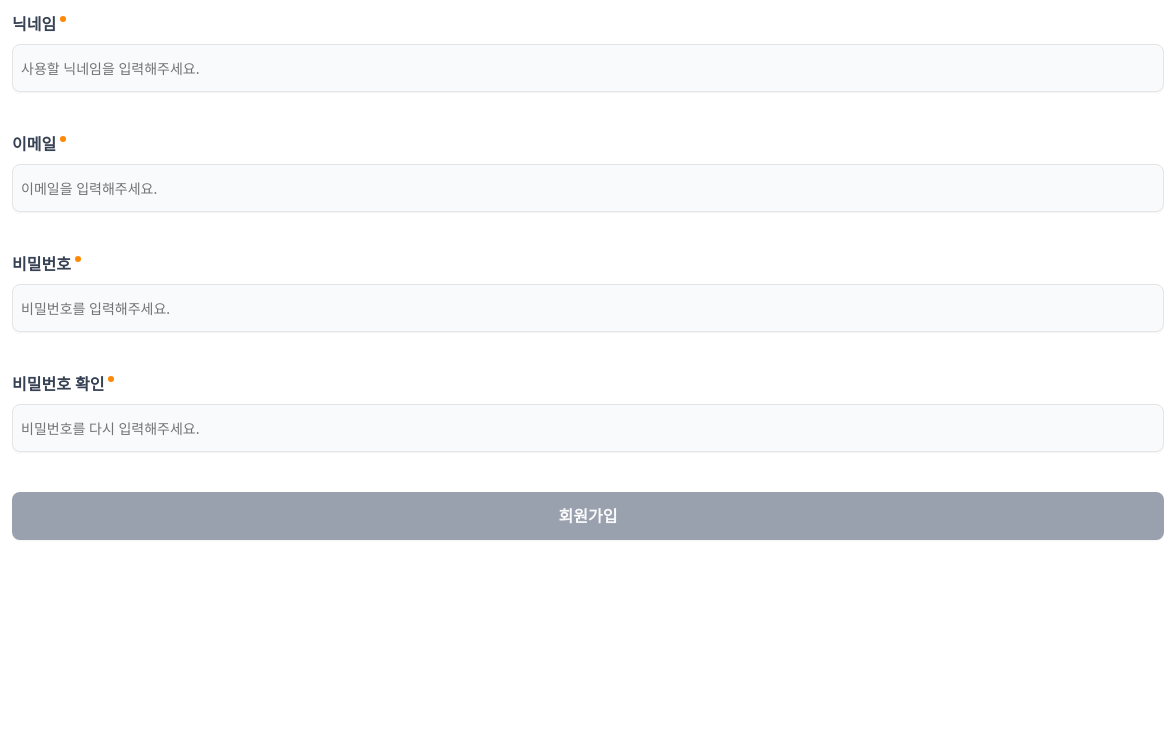
Test case: 로그인 및 회원가입 공통 인증 form 컴포넌트 › 회원가입 폼 제출 시 회원가입 실패
Click the button "회원가입" at (588, 516), box [12,492,1164,540]
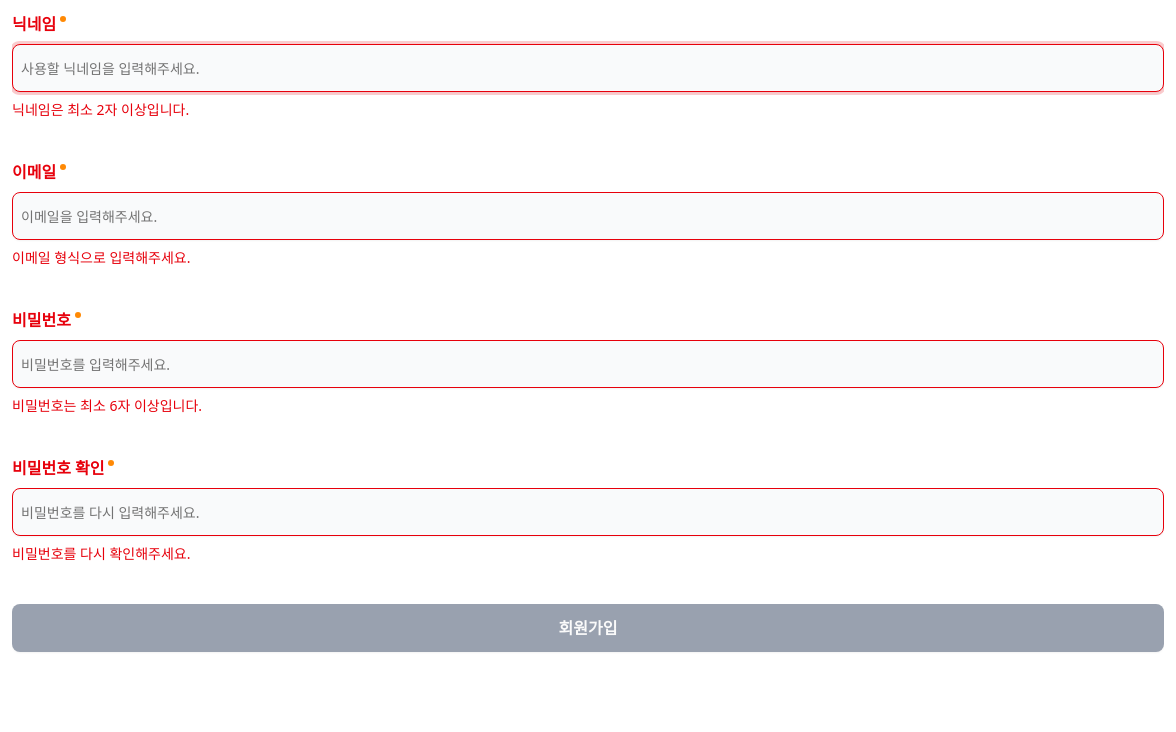
Check: the text "닉네임은 최소 2자 이상입니다." is shown, box [12,100,189,119]
Check: the text "이메일 형식으로 입력해주세요." is shown, box [12,248,190,267]
Check: the text "비밀번호를 다시 확인해주세요." is shown, box [12,544,190,563]
